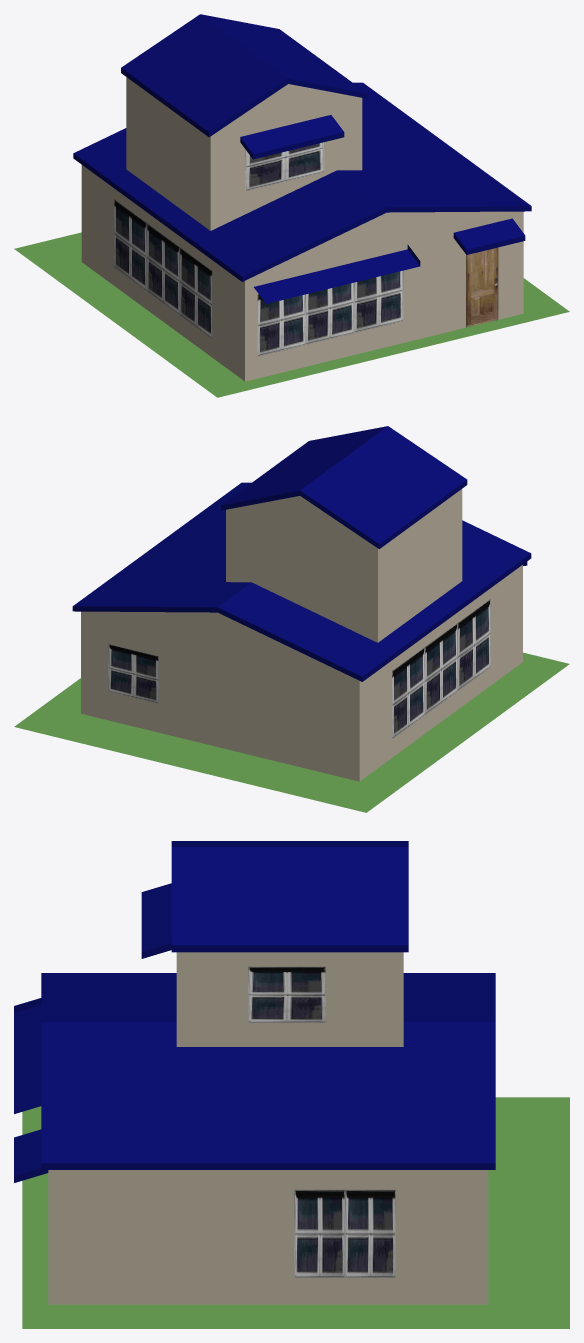
The model's file is House.003.gltf.
3 views of the same model, one above another, from view 1: azimuth 30°, elevation 25°; view 2: azimuth 150°, elevation 25°; view 3: azimuth 270°, elevation 25° (orthographic). The views are drawn at different scales.
Visible parts, largest first — view 1: building_018, Plane.009; view 2: building_018, Plane.009; view 3: building_018, Plane.009.
Part boxes in pixels (x1=…): building_018: x1=73, y1=14, x2=531, y2=381; Plane.009: x1=14, y1=232, x2=569, y2=397; building_018: x1=72, y1=426, x2=531, y2=781; Plane.009: x1=14, y1=652, x2=569, y2=812; building_018: x1=14, y1=841, x2=495, y2=1304; Plane.009: x1=22, y1=1097, x2=569, y2=1328.
Size of the model in its own units: 7 by 4.7 by 7.11.
Materials: 5 (2 with a texture image).
